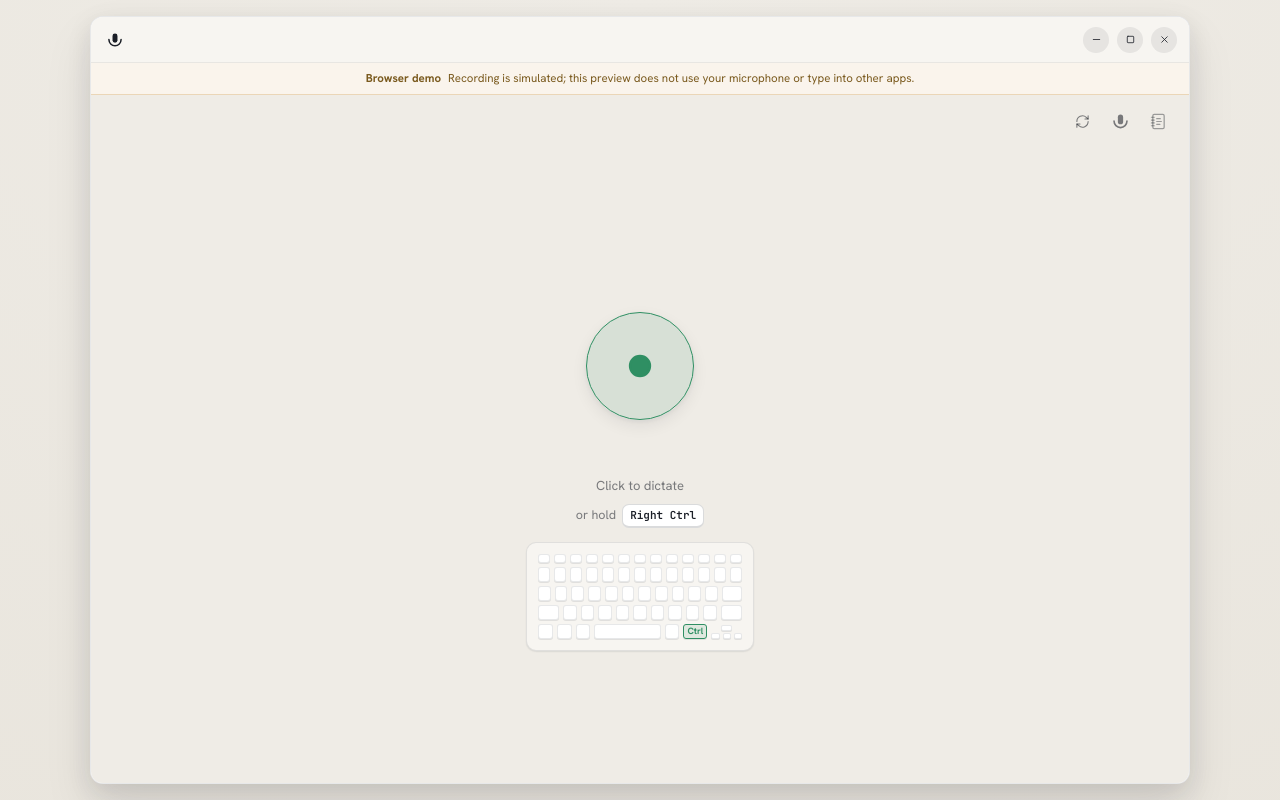
it: Notes list (history view) › archive toast undo restores the note
This screenshot has width=1280, height=800.
Press k
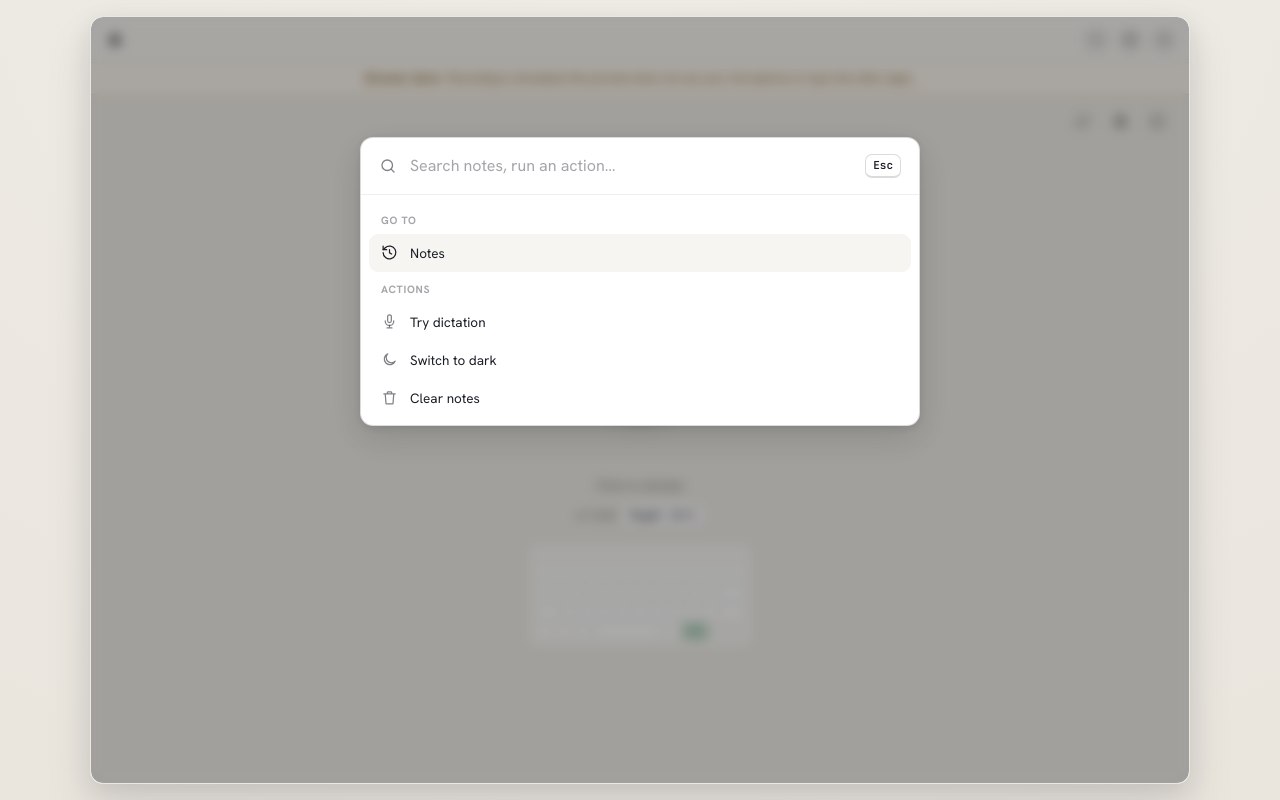
Type "Notes" into the field with placeholder "Search notes, run an action…" at (631, 166), box [408, 153, 854, 179]
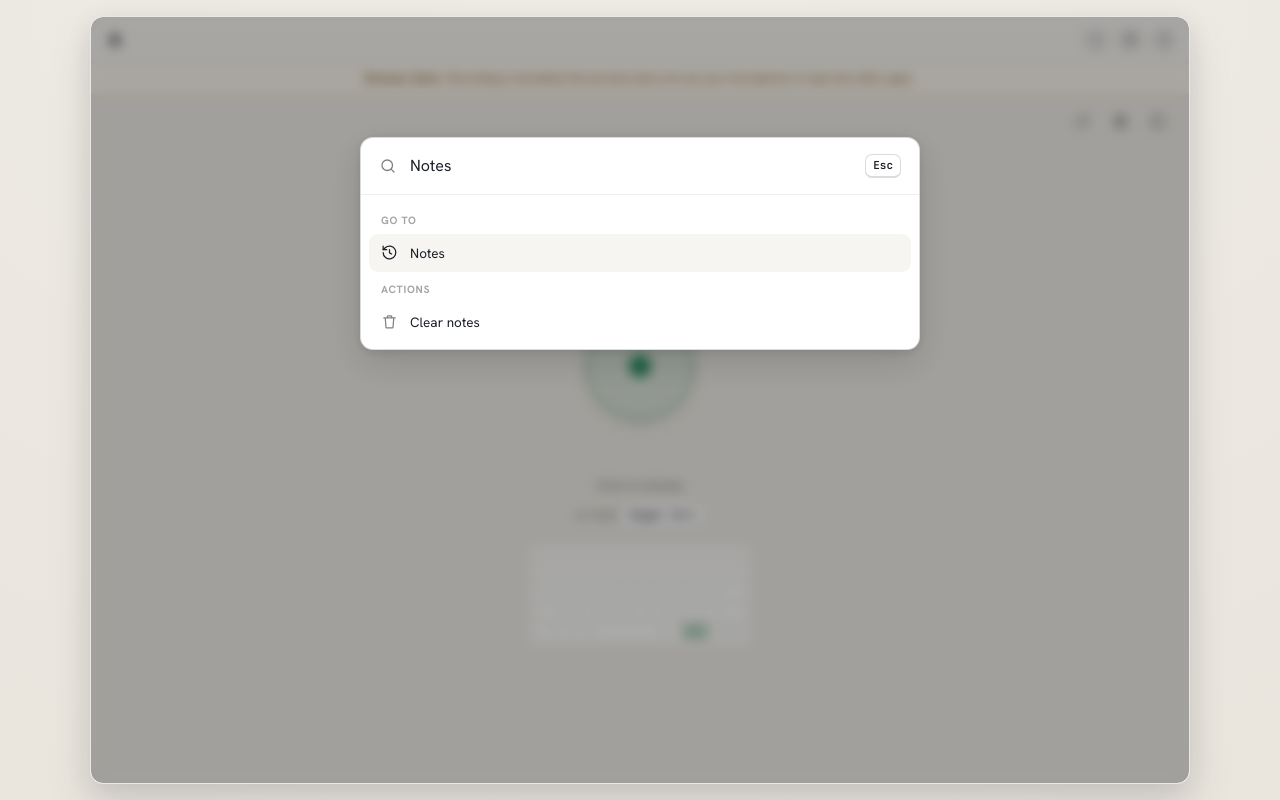
Press Enter in the field with placeholder "Search notes, run an action…", box [408, 153, 854, 179]
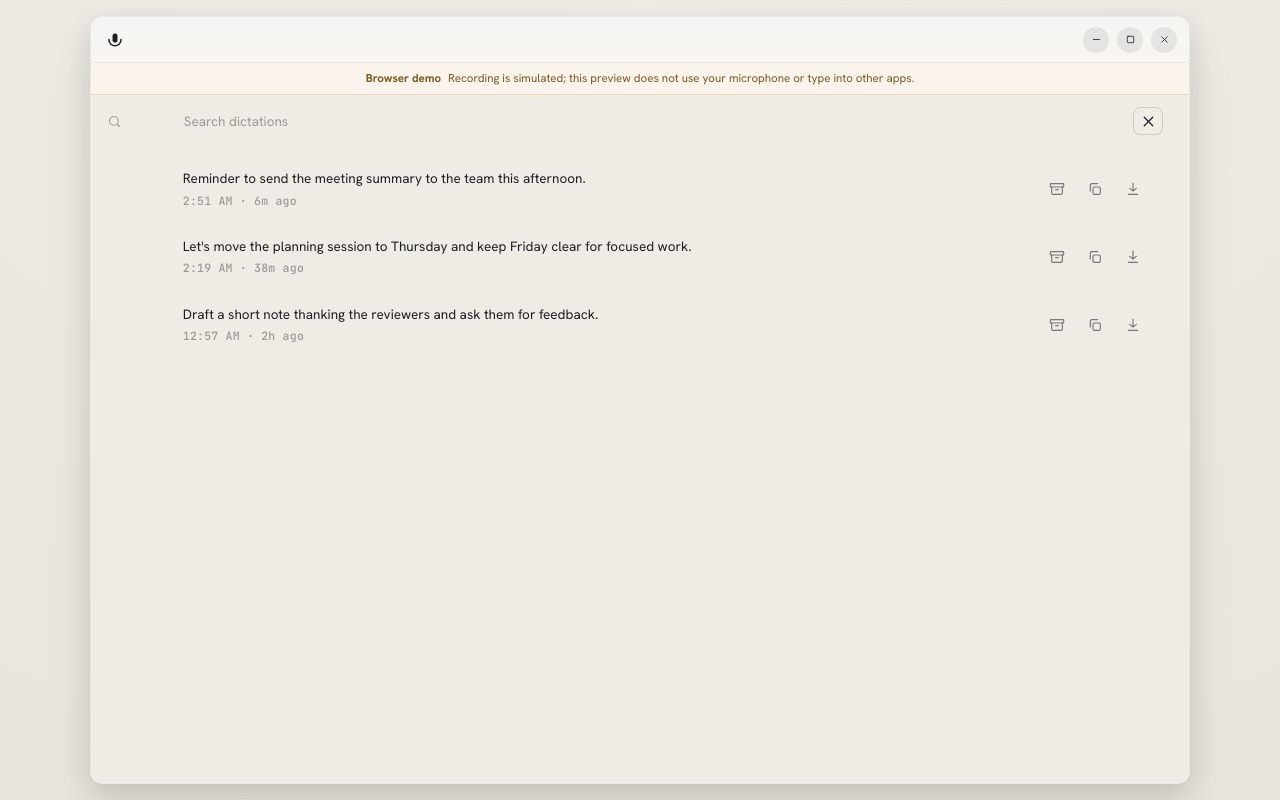
Click the 1st button titled "Archive note" at (1057, 189), box [1042, 175, 1072, 203]
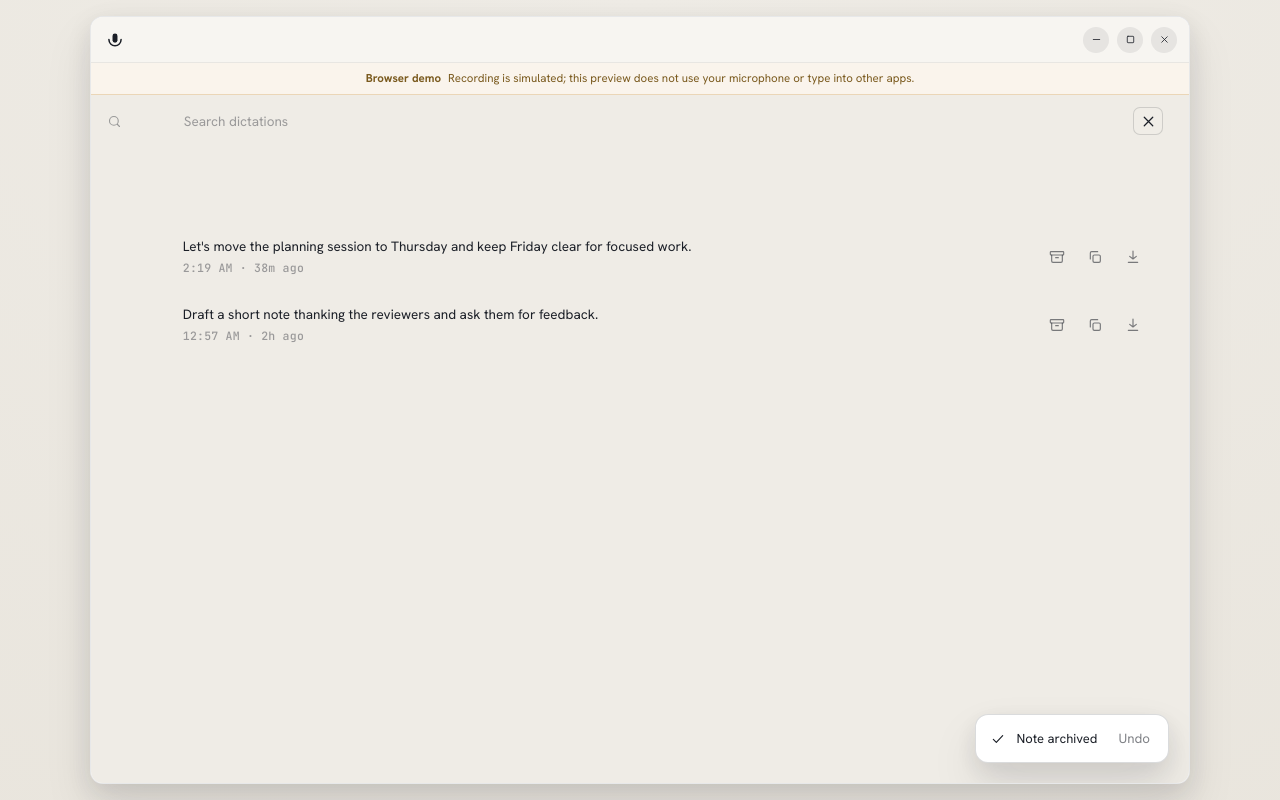
Click the button "Undo" at (1134, 738), box [1114, 726, 1154, 751]
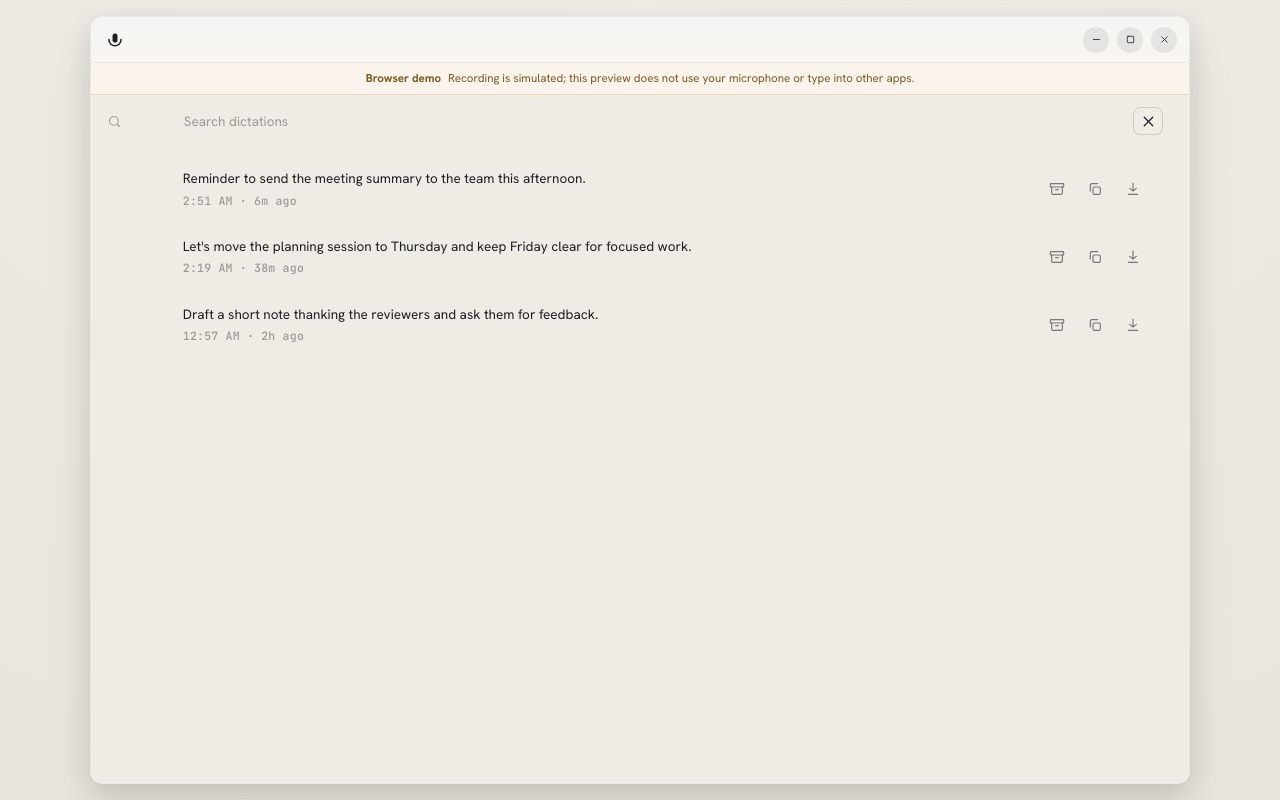
Now the text "meeting summary" is shown, box [183, 169, 586, 187]
